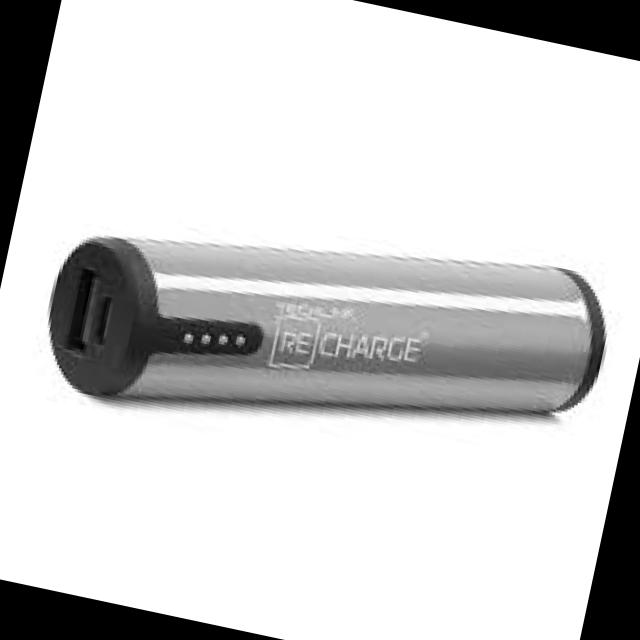power_bank: (32, 162, 621, 506)
